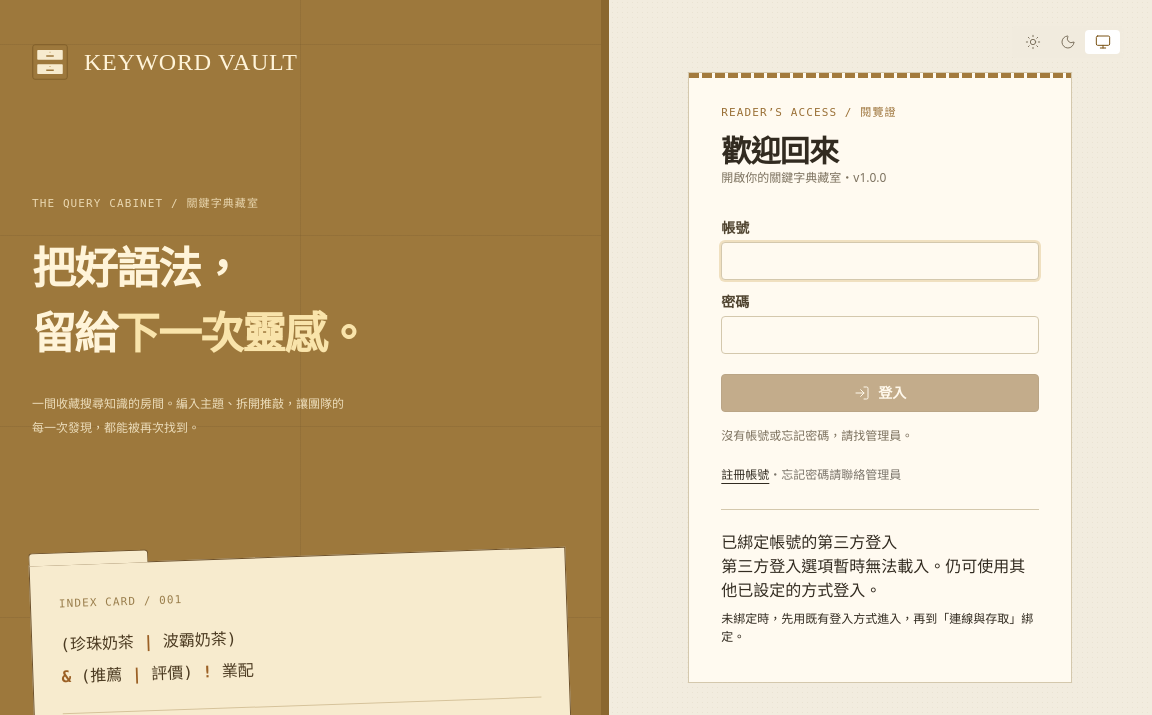
it: 密碼錯了會顯示後端的訊息，並清掉密碼
Type "nat" into the field labelled "帳號" at x=880, y=260, box top-left (721, 242), bottom-right (1039, 280)
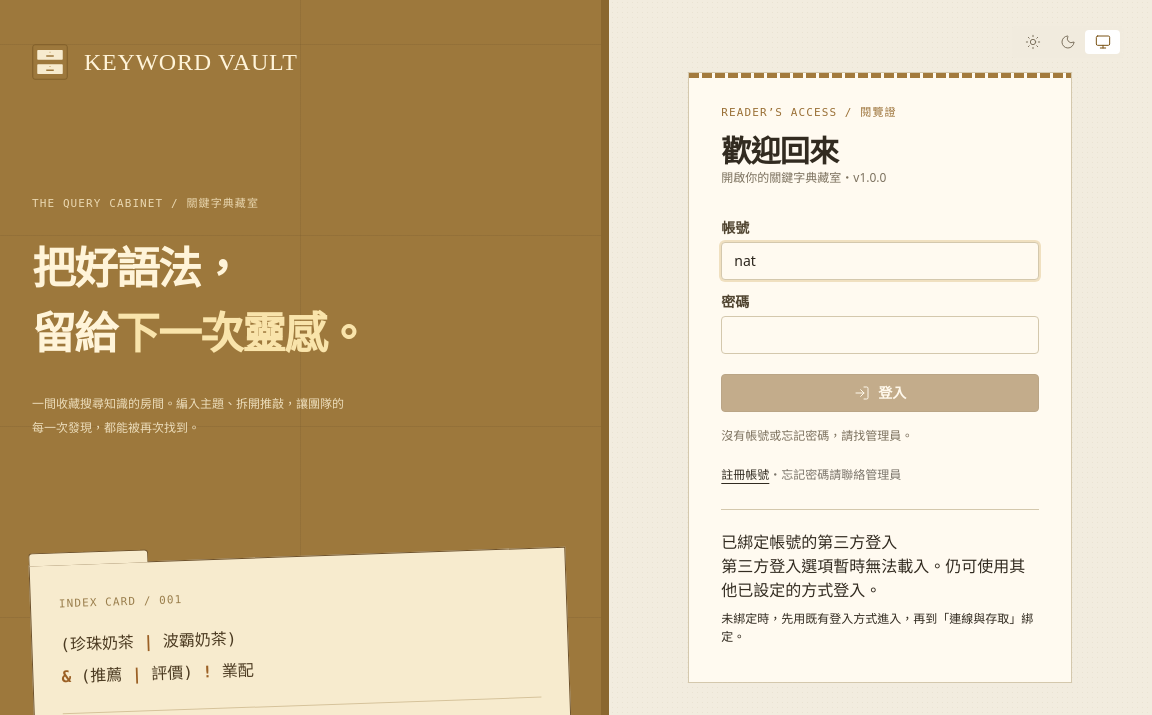
Type "wrong password" into the password field labelled "密碼" at x=880, y=334, box top-left (721, 316), bottom-right (1039, 354)
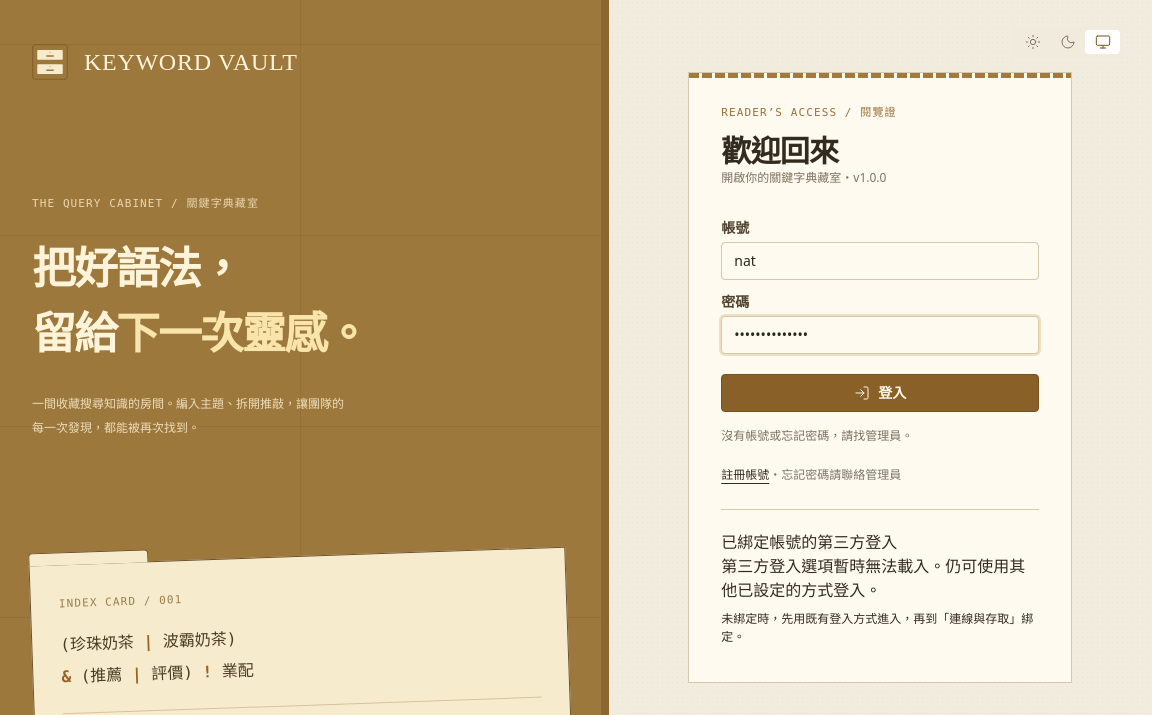
Click the button "登入" at x=880, y=392, box top-left (721, 374), bottom-right (1039, 412)
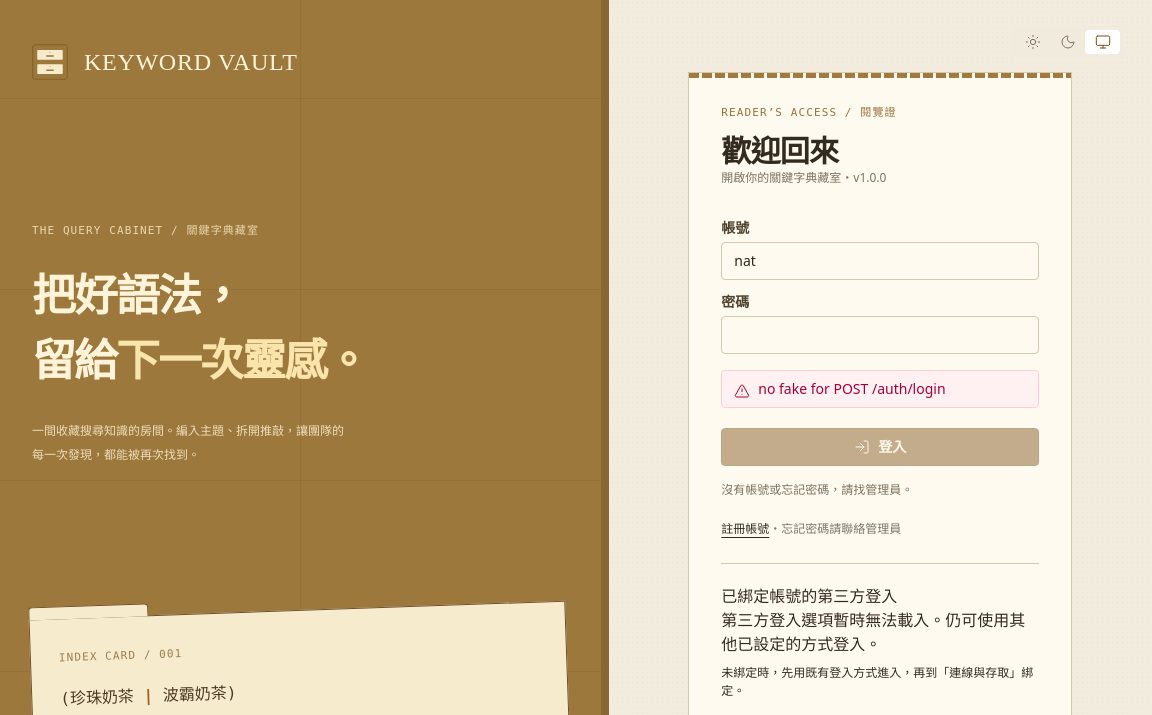
Check: the message "no fake for POST /auth/login" is shown, box top-left (721, 370), bottom-right (1039, 408)
Check: the password field labelled "密碼" is empty, box top-left (721, 316), bottom-right (1039, 354)
